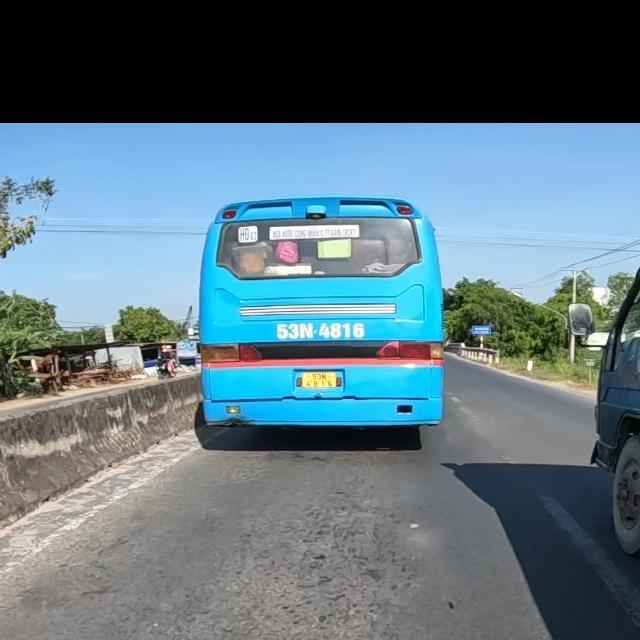car: (195, 192, 449, 454)
plate: (294, 368, 345, 394)
